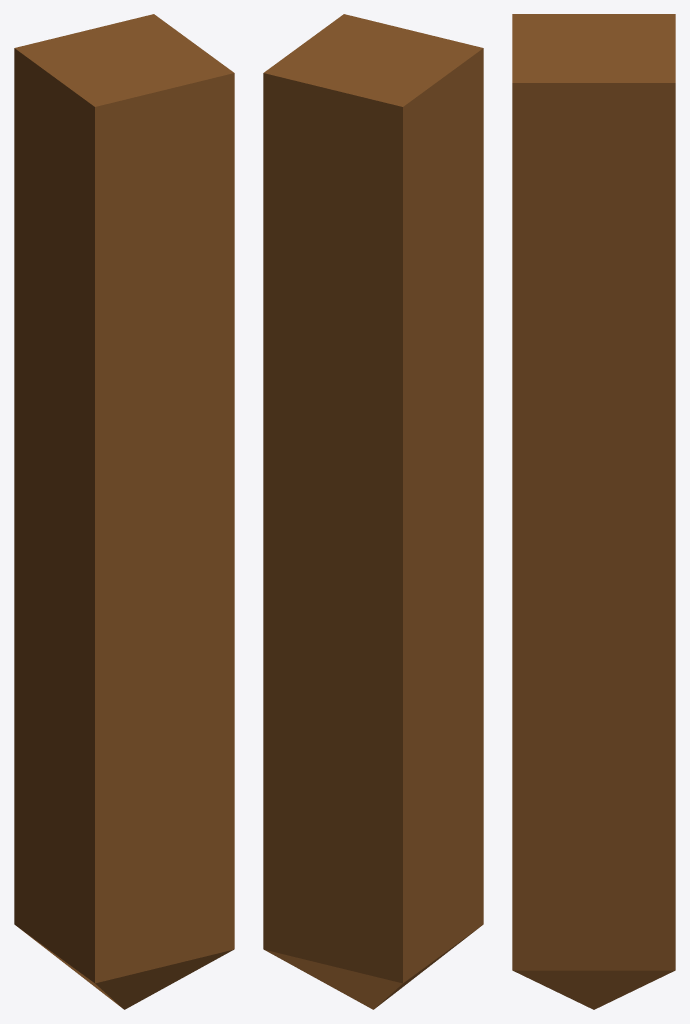
The model's file is fencepost.FBX.
3 renders of one model, left to right at view 1: azimuth 30°, elevation 25°; view 2: azimuth 150°, elevation 25°; view 3: azimuth 270°, elevation 25°, orthographic.
Parts seen in each view (by area): view 1: Box001; view 2: Box001; view 3: Box001.
Boxes of the visible parts, <box> form: Box001: <box>14,14,234,1009</box>; Box001: <box>263,14,483,1009</box>; Box001: <box>512,14,675,1009</box>.
Size of the model in its own units: 0.1 by 0.65 by 0.1.
